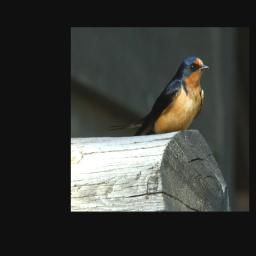Swallow: (106, 56, 210, 136)
